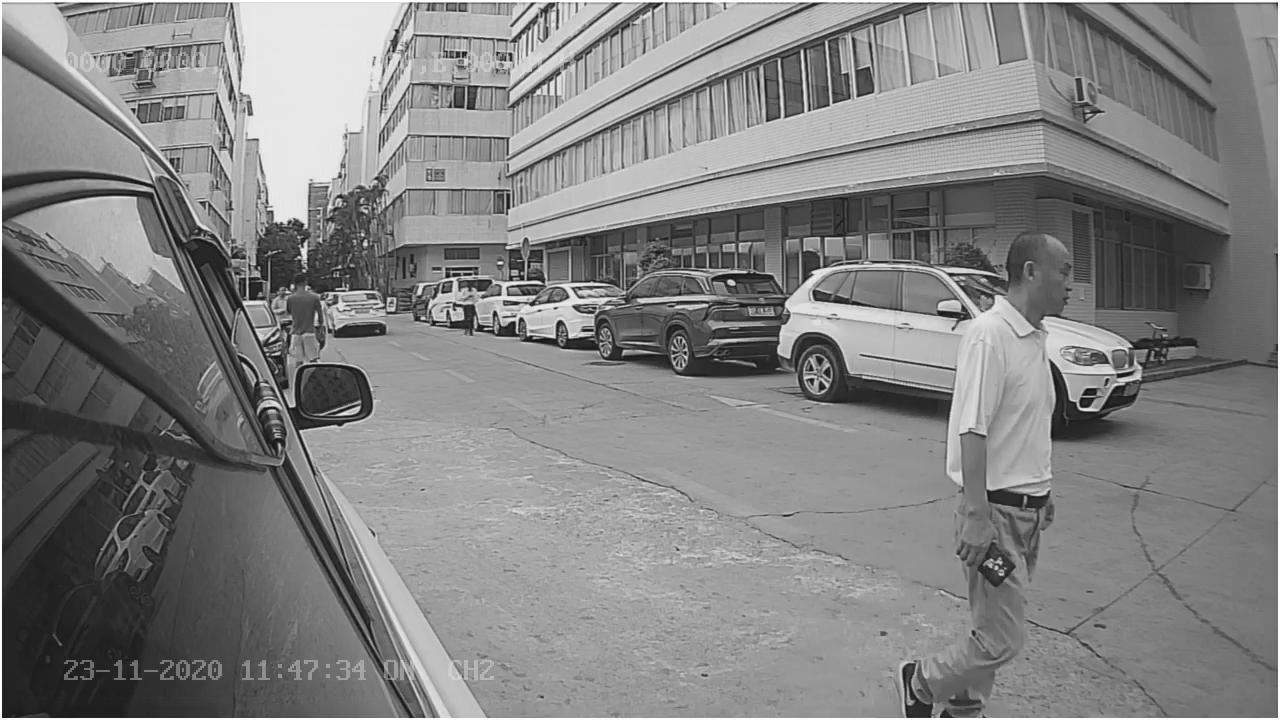person: (890, 233, 1090, 588)
